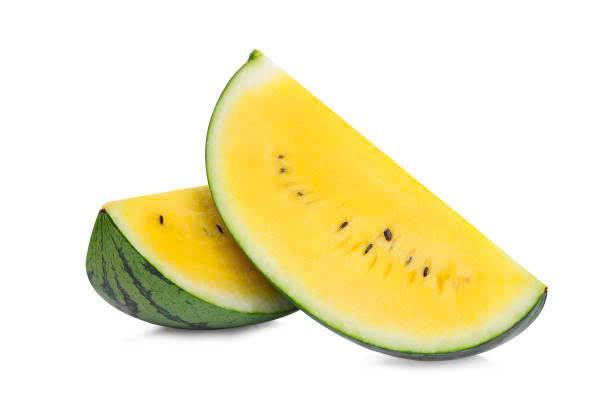watermelon: (218, 52, 559, 357), (76, 199, 285, 339)
